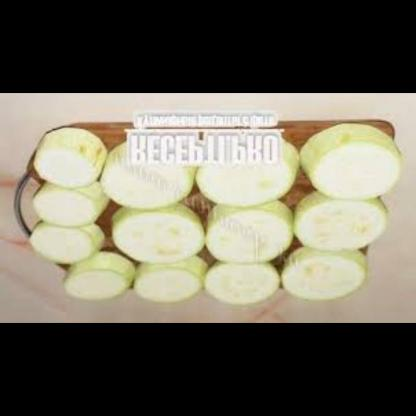vegetable marrow: (292, 116, 405, 212), (201, 130, 307, 215), (202, 199, 300, 276), (105, 134, 196, 212), (114, 200, 209, 273), (294, 199, 393, 266), (282, 252, 388, 312), (27, 125, 111, 192), (202, 262, 295, 314), (22, 183, 115, 234), (132, 257, 219, 311), (23, 228, 112, 276), (60, 252, 132, 310)
